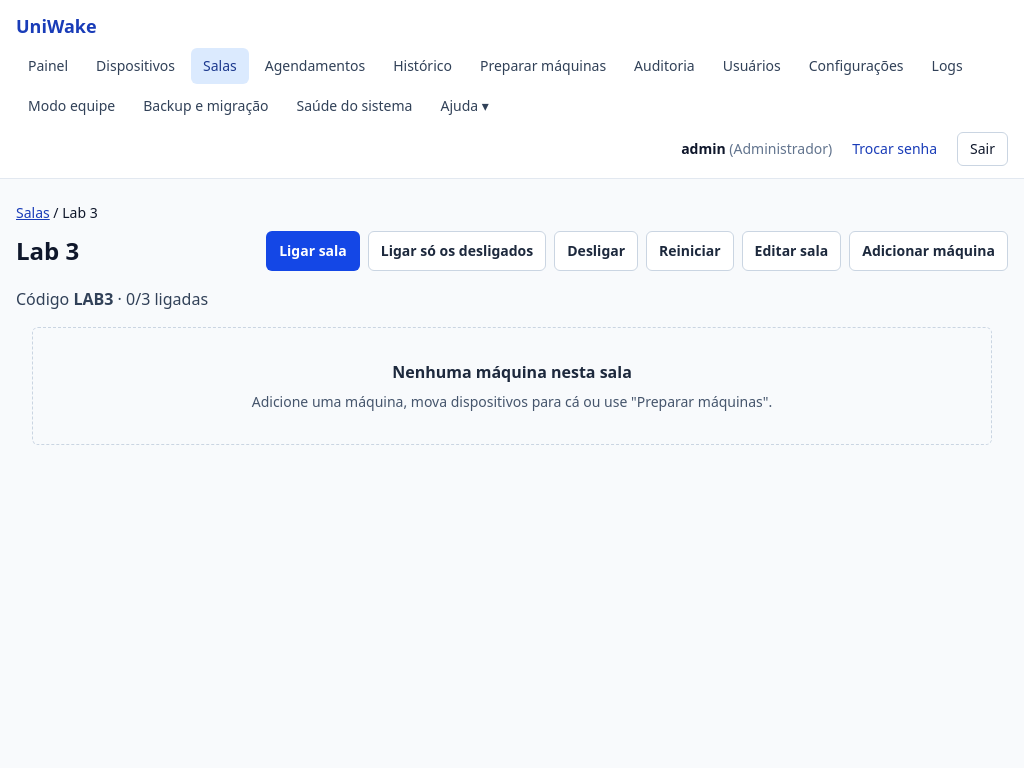
Test case: wake flow (FR-003.3, FR-009) › "Ligar só os desligados" sends onlyOffline
Click the button "Ligar só os desligados" at point(457, 251), box left=368, top=231, right=546, bottom=271
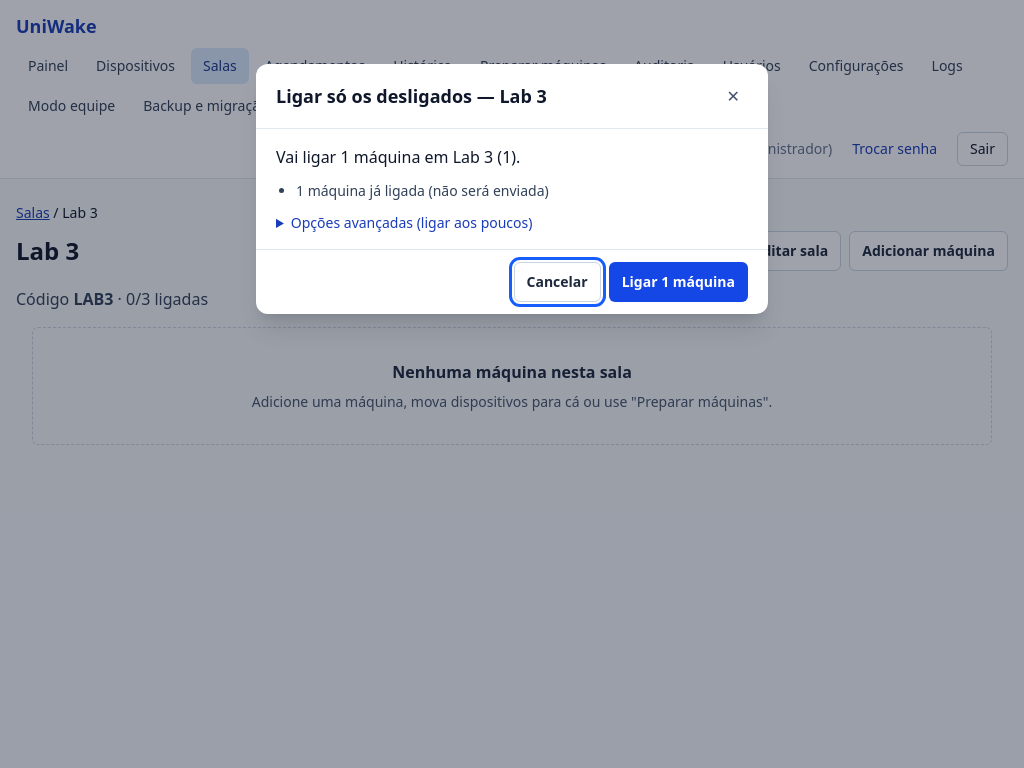
Now the list item "1 máquina já ligada (não será enviada)" is shown, box left=296, top=181, right=549, bottom=200
